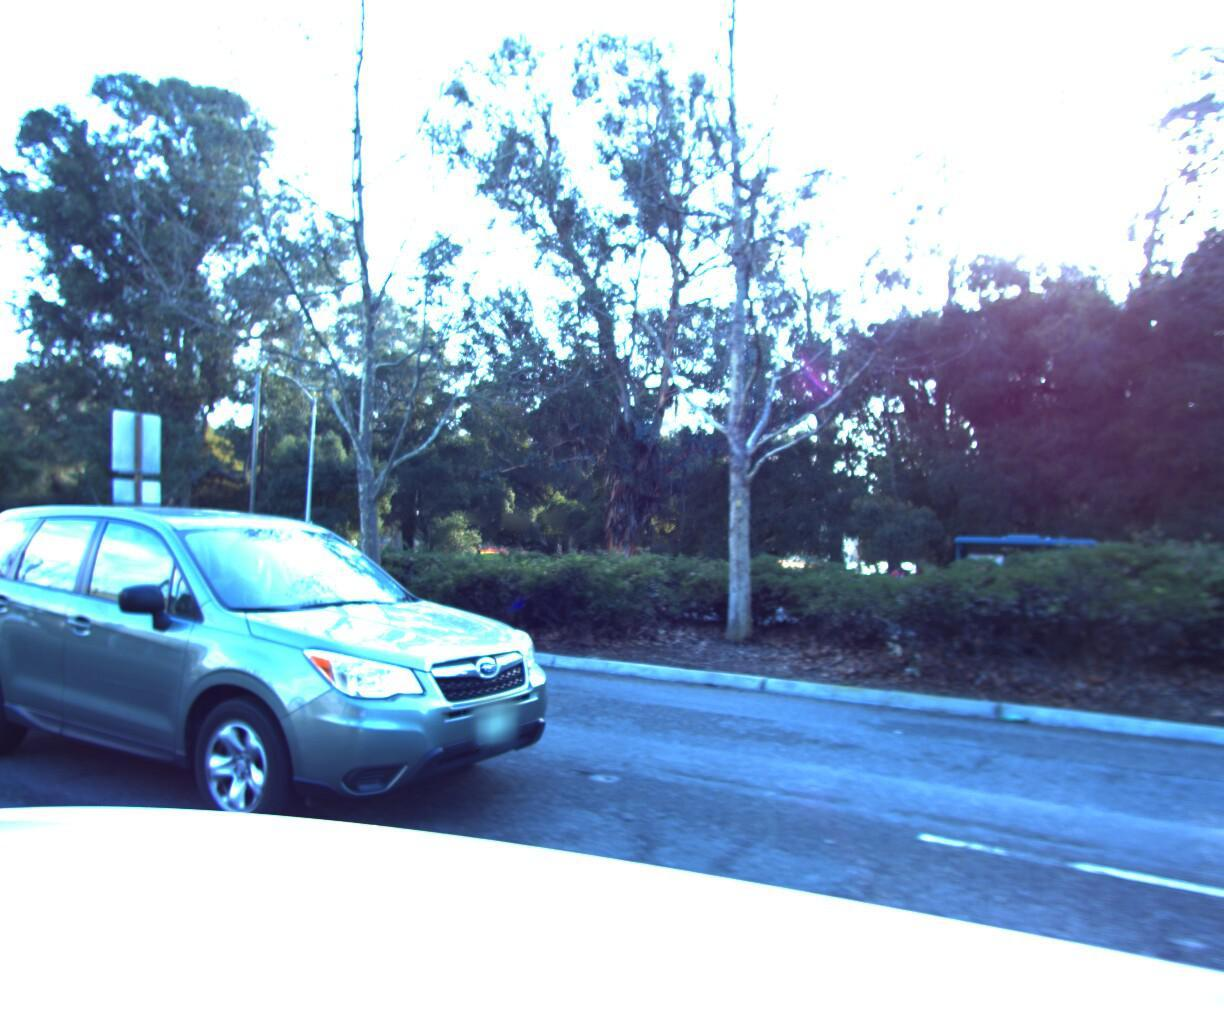car: (0, 496, 599, 894)
other_vehicle: (39, 501, 173, 562)
